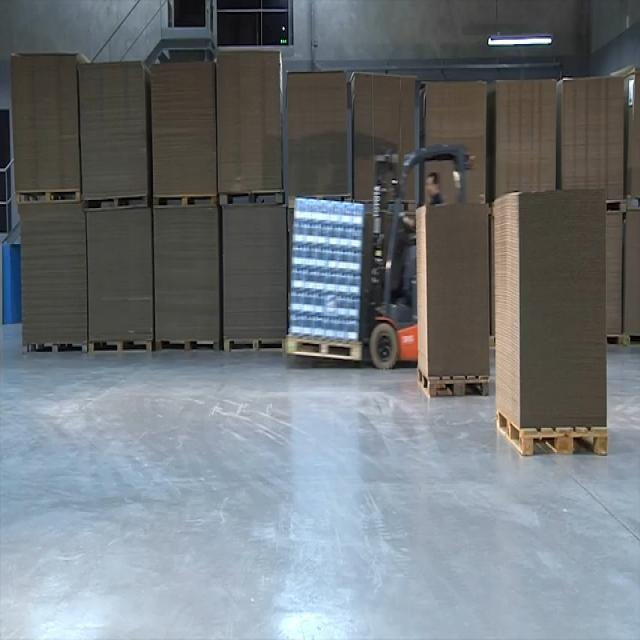Chariot elevateur: (366, 136, 476, 375)
Palette: (492, 407, 612, 461), (277, 329, 366, 364), (414, 361, 492, 400), (220, 184, 288, 213), (150, 190, 218, 213), (85, 338, 153, 358), (154, 336, 221, 356), (221, 336, 287, 356), (21, 340, 87, 359), (82, 193, 149, 211), (14, 188, 82, 205), (599, 331, 640, 352), (606, 192, 640, 215)
